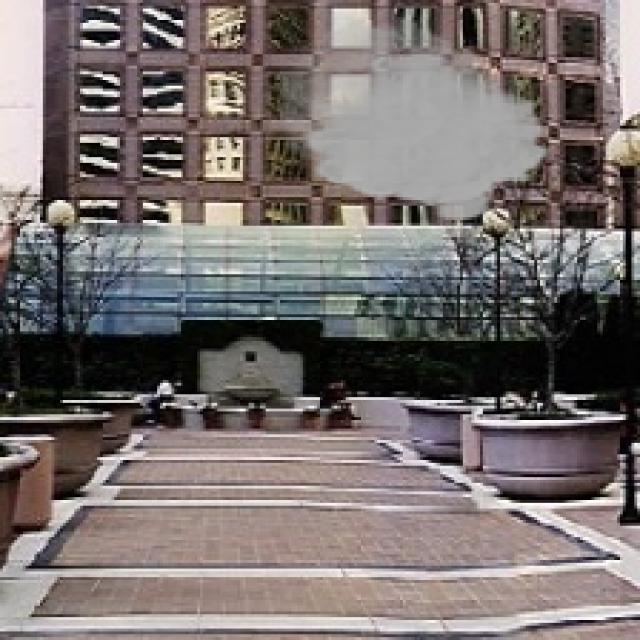smoke: (280, 8, 554, 223)
